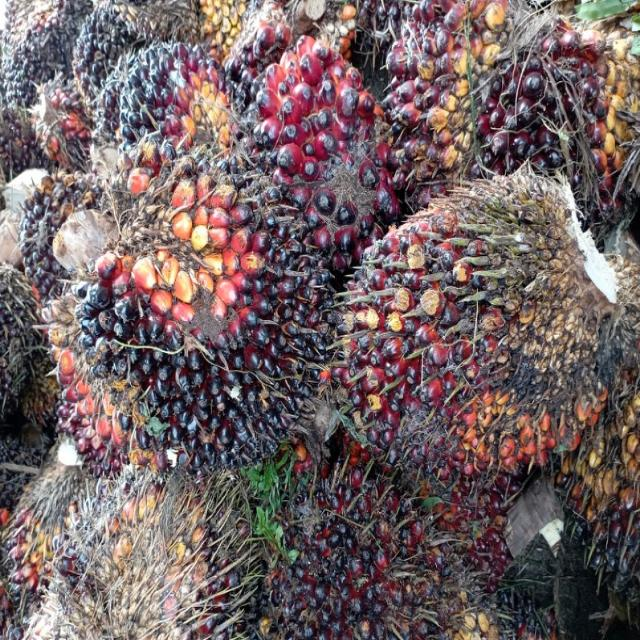fraksi 00: (70, 140, 338, 463), (98, 38, 241, 177), (0, 0, 92, 121), (59, 0, 154, 102)
fraksi 1: (332, 176, 628, 489), (388, 0, 634, 205), (270, 466, 505, 640), (238, 31, 394, 231)
